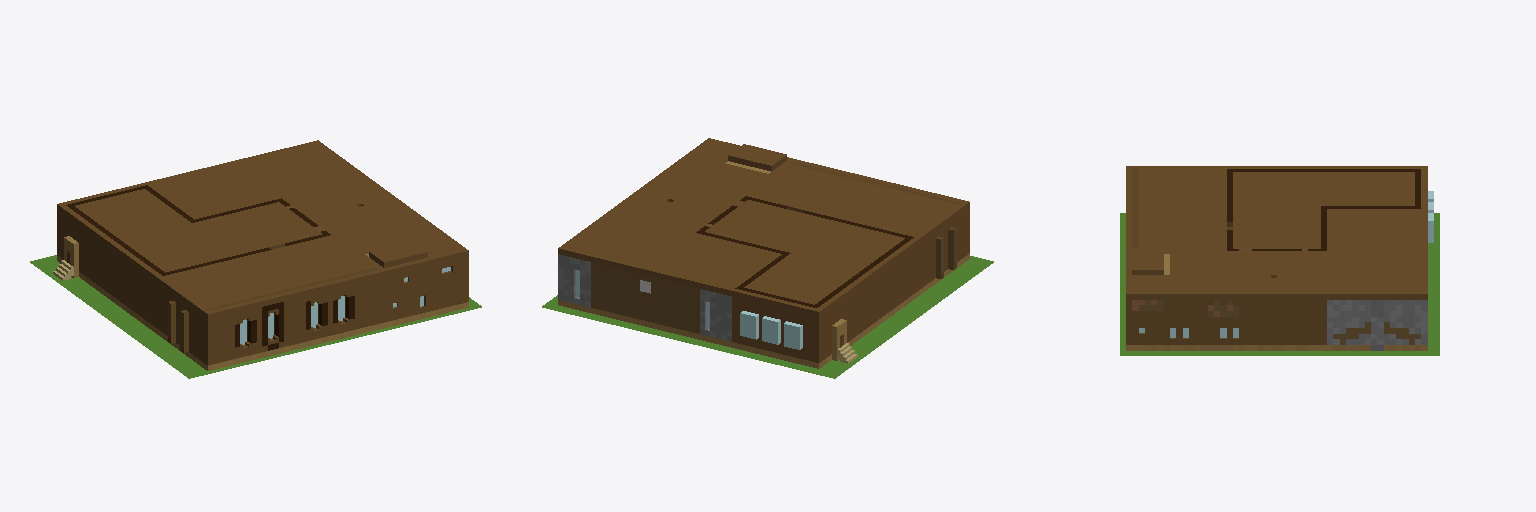
Rendered from WinterLodge.obj.
3 views of the same model, side by side, from view 1: azimuth 30°, elevation 25°; view 2: azimuth 150°, elevation 25°; view 3: azimuth 270°, elevation 25° (orthographic).
Bounding box in the file's own units: 54 × 12 × 51.